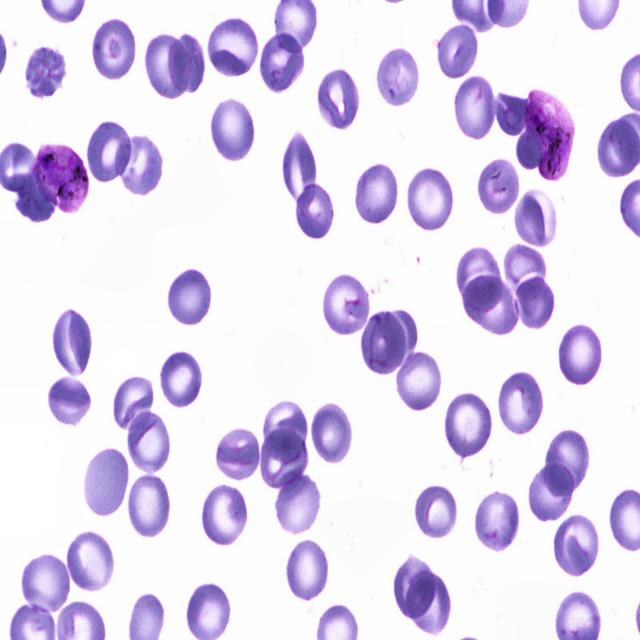difficult: (525, 88, 577, 181), (34, 141, 90, 215)
red blood cell: (404, 166, 458, 234), (464, 271, 520, 335), (542, 428, 593, 498), (476, 153, 527, 222), (444, 390, 494, 460), (90, 16, 140, 85), (144, 30, 192, 101), (207, 14, 260, 78), (84, 444, 131, 516), (209, 96, 257, 166), (324, 272, 374, 338), (497, 368, 544, 438), (114, 133, 164, 198), (66, 528, 115, 594), (451, 72, 497, 142), (393, 551, 439, 621), (456, 244, 502, 314), (528, 461, 578, 525), (126, 471, 172, 540), (556, 321, 604, 387), (274, 471, 323, 535), (361, 309, 407, 377), (394, 348, 442, 413), (21, 553, 71, 615), (83, 119, 130, 184), (158, 347, 206, 410), (200, 483, 248, 546), (257, 31, 305, 94), (52, 307, 93, 380), (130, 414, 176, 479), (263, 396, 308, 462), (514, 186, 560, 250), (260, 427, 306, 491), (474, 490, 522, 551), (354, 162, 400, 225), (554, 514, 598, 579), (168, 265, 213, 328), (309, 403, 356, 463), (319, 66, 362, 131), (376, 47, 422, 107), (215, 427, 264, 483), (407, 570, 451, 632), (286, 539, 329, 602), (112, 375, 157, 435), (190, 578, 234, 639), (45, 375, 94, 428), (414, 484, 458, 541), (436, 23, 479, 81), (503, 242, 549, 296), (282, 132, 315, 207), (165, 31, 203, 96), (514, 274, 558, 329), (295, 184, 336, 242), (24, 46, 68, 99), (13, 172, 56, 225), (492, 85, 532, 141), (382, 306, 417, 360)
